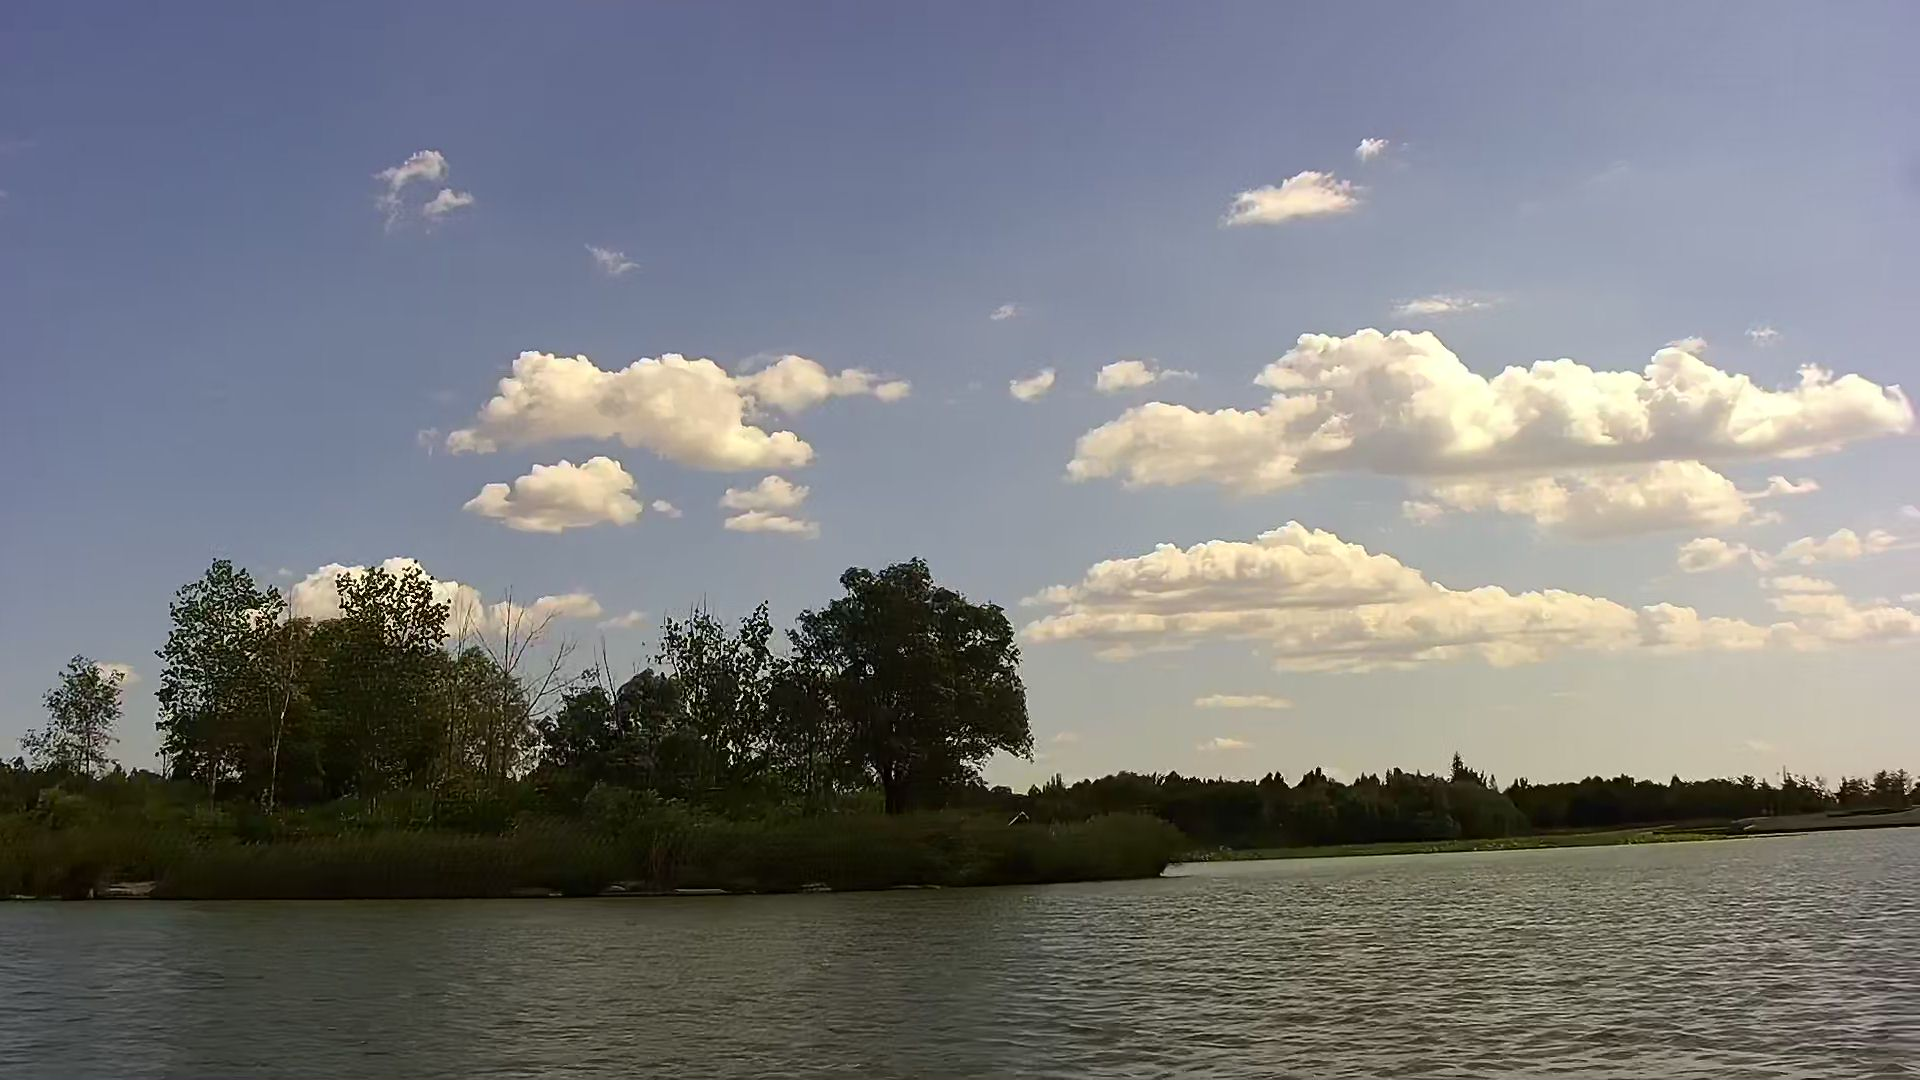rock: (92, 874, 154, 897)
